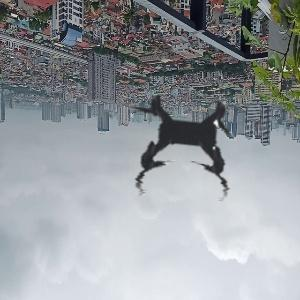drone: (81, 38, 294, 251)
